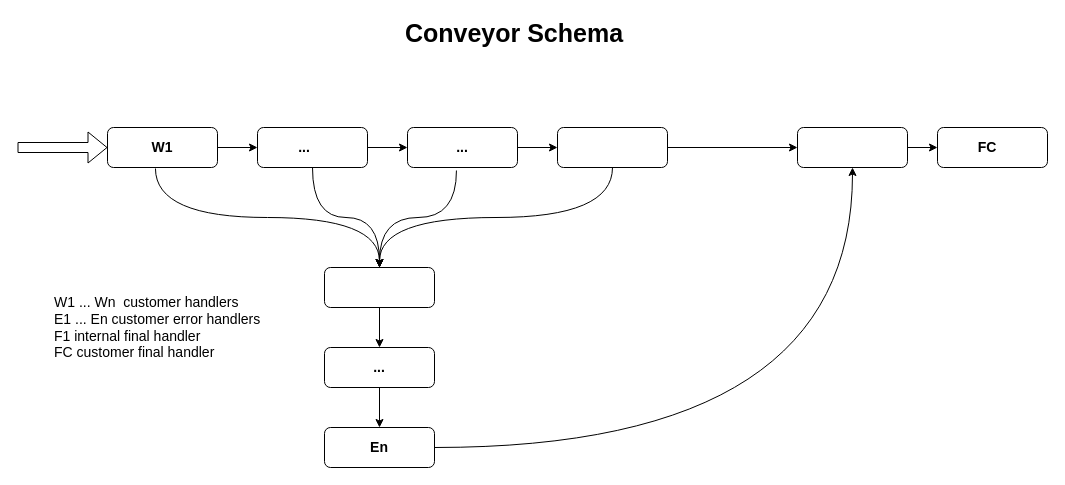
This 1065x485 diagram has some shape labels left out. The box of each missing label's shape, as (x1, y1, x2, y2) in pixels:
E1: (324, 266, 434, 308)
F1: (796, 126, 908, 168)
Wn: (556, 126, 668, 168)
